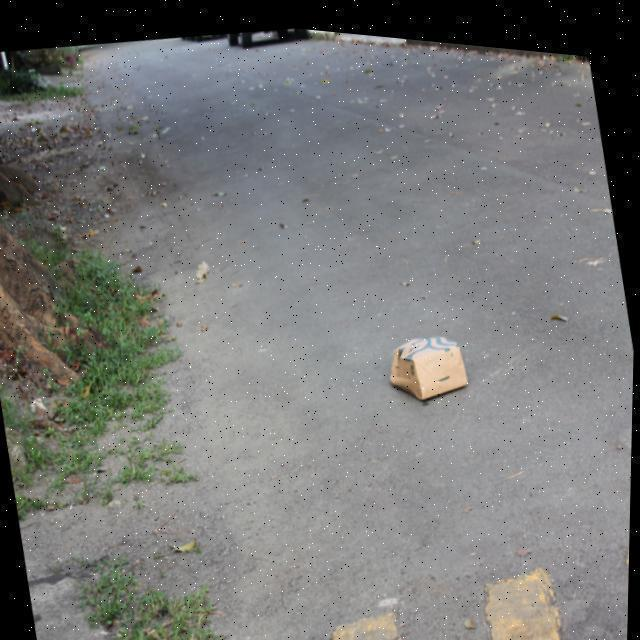Paper_Bag: (383, 318, 472, 400)
